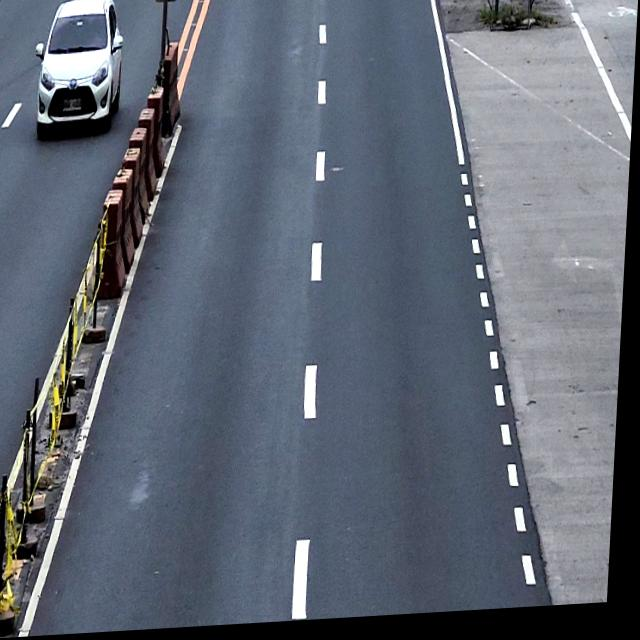Car: (32, 0, 126, 140)
License-Plate: (63, 96, 84, 113)
